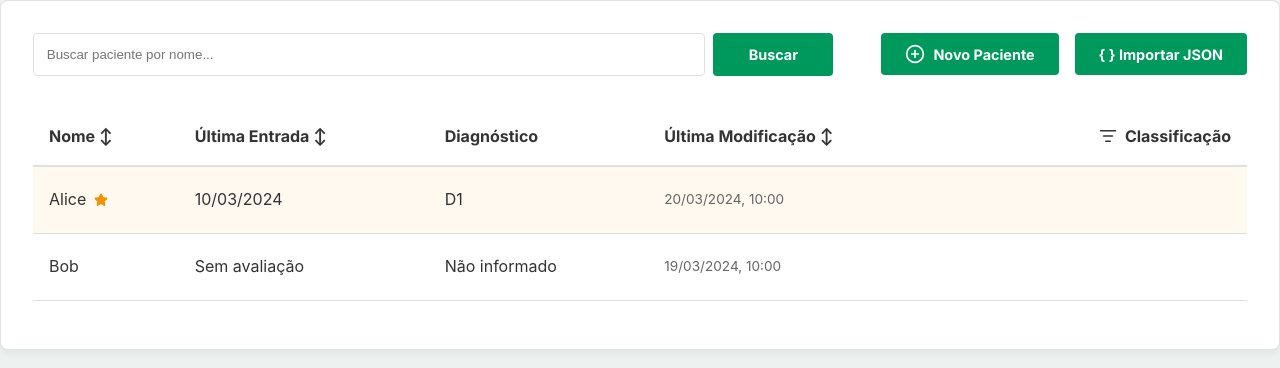
Test: PatientsView › deve abrir o menu de classificação ao clicar no cabeçalho correspondente
Click the text "Classificação": (1165, 136) [1099,126,1231,146]
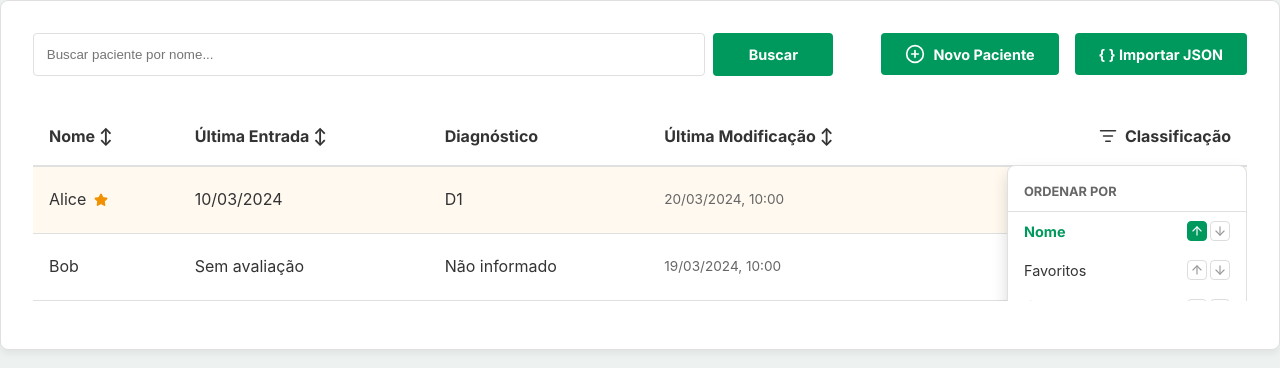
Check: the text "ORDENAR POR" is shown, box [1008,174,1246,212]
Check: the text "Favoritos" is shown, box [1024,259,1086,282]
